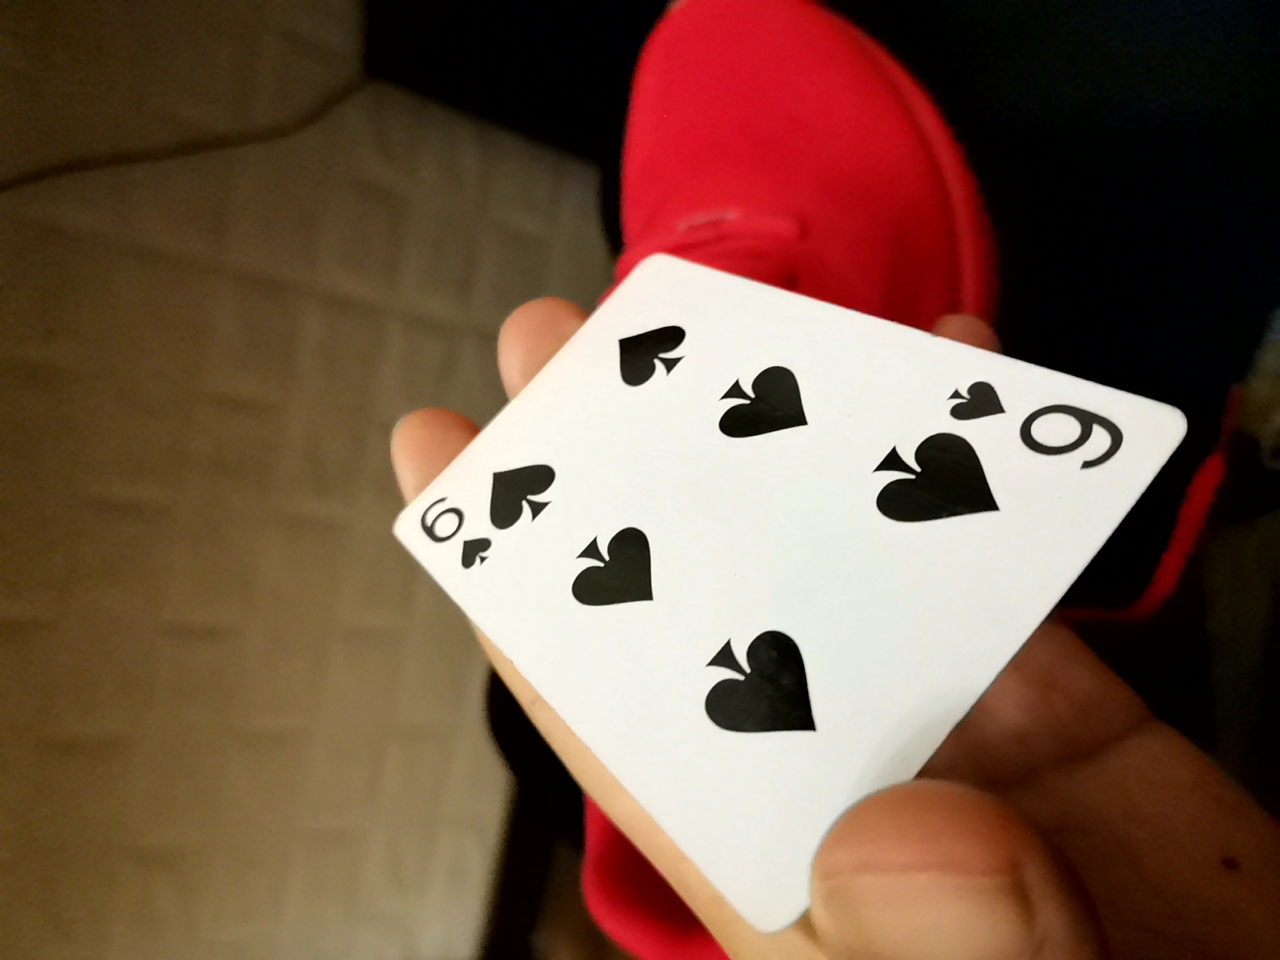ht 6: (367, 245, 1187, 932)
